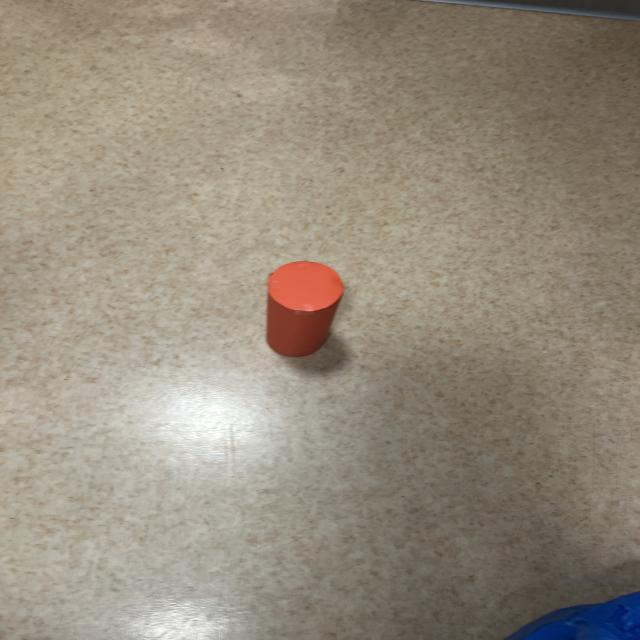przeszkoda: (266, 261, 343, 357)
